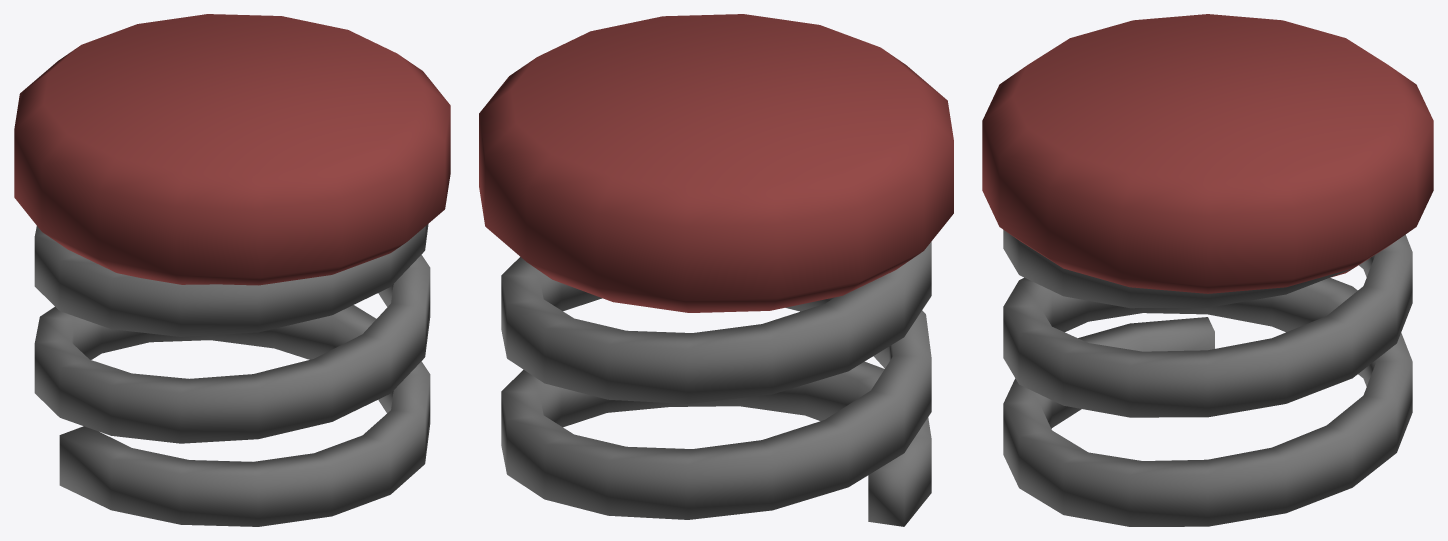
The model's file is bounce-village-24.glb.
The picture shows the model from 3 angles, left to right: view 1: azimuth 30°, elevation 25°; view 2: azimuth 150°, elevation 25°; view 3: azimuth 270°, elevation 25°; orthographic projection. The views are drawn at different scales.
Visible parts, largest first — view 1: piece; view 2: piece; view 3: piece.
Boxes of the visible parts, bbox=[...] form: piece: bbox=[14, 14, 450, 526]; piece: bbox=[479, 14, 953, 526]; piece: bbox=[982, 14, 1433, 526].
Size of the model in its own units: 1.51 by 1.33 by 1.51.
